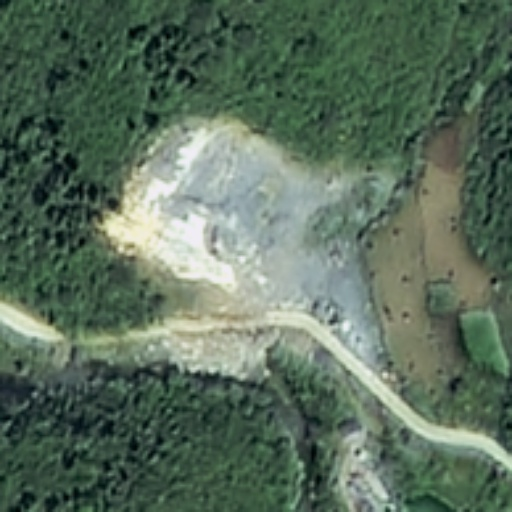landslide: (102, 120, 300, 303)
